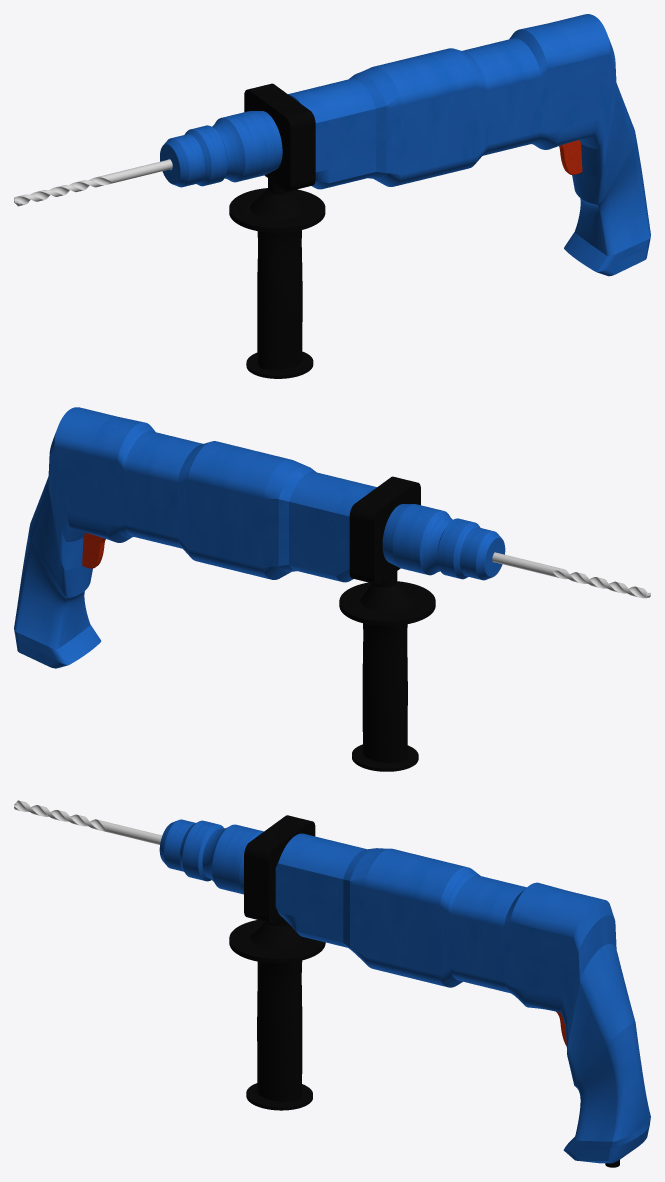
The model's file is hammerdrill-final.glb.
3 views of the same model, one above another, from view 1: azimuth 30°, elevation 25°; view 2: azimuth 150°, elevation 25°; view 3: azimuth 330°, elevation 25° (orthographic).
Parts seen in each view (by area): view 1: Mesh_Red_Combined, Hammerdrill; view 2: Mesh_Red_Combined, Hammerdrill; view 3: Mesh_Red_Combined, Hammerdrill.
Boxes of the visible parts, left/top/right/bottom form: Mesh_Red_Combined: left=160, top=14, right=650, bottom=276; Hammerdrill: left=14, top=83, right=582, bottom=378; Mesh_Red_Combined: left=14, top=407, right=505, bottom=668; Hammerdrill: left=82, top=476, right=650, bottom=771; Mesh_Red_Combined: left=159, top=819, right=650, bottom=1163; Hammerdrill: left=14, top=800, right=619, bottom=1167.
Size of the model in its own units: 0.3353 by 0.1389 by 0.0445.
7 materials, 6 textured.
